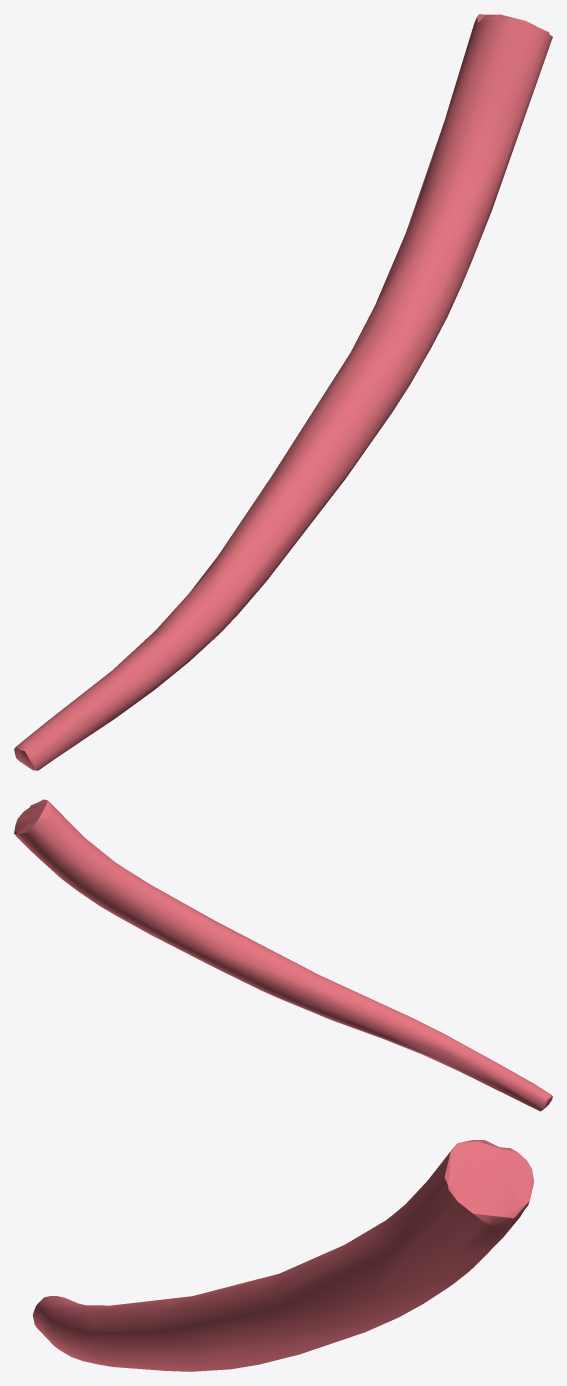
The model's file is fma68691_fj2982.glb.
3 views of the same model, one above another, from view 1: azimuth 30°, elevation 25°; view 2: azimuth 150°, elevation 25°; view 3: azimuth 270°, elevation 25° (orthographic). The views are drawn at different scales.
Parts seen in each view (by area): view 1: FMA68691_FJ2982; view 2: FMA68691_FJ2982; view 3: FMA68691_FJ2982.
Boxes of the visible parts, bbox=[...] form: FMA68691_FJ2982: bbox=[14, 14, 552, 770]; FMA68691_FJ2982: bbox=[14, 799, 552, 1111]; FMA68691_FJ2982: bbox=[33, 1140, 534, 1371].
Size of the model in its own units: 0.0611 by 0.0393 by 0.031.
